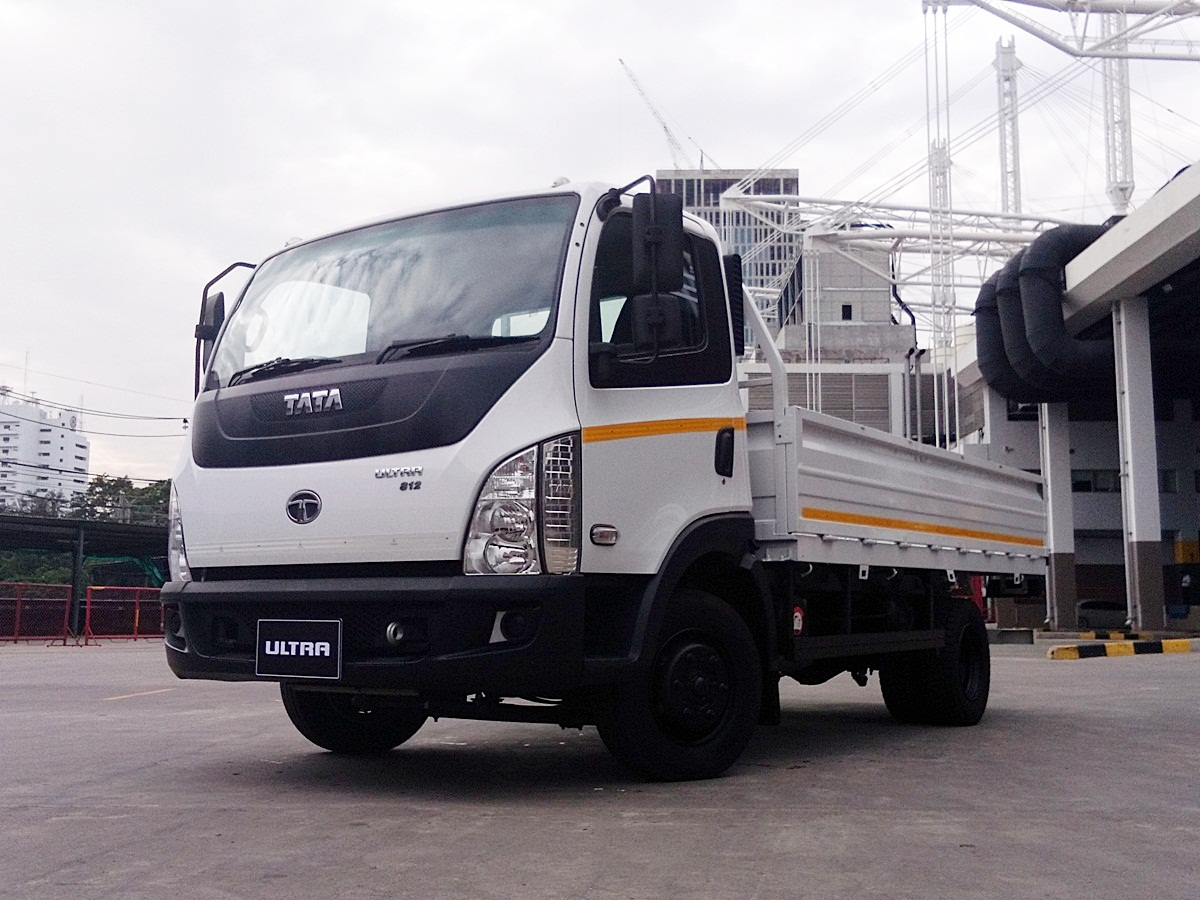truck: (154, 178, 766, 785)
